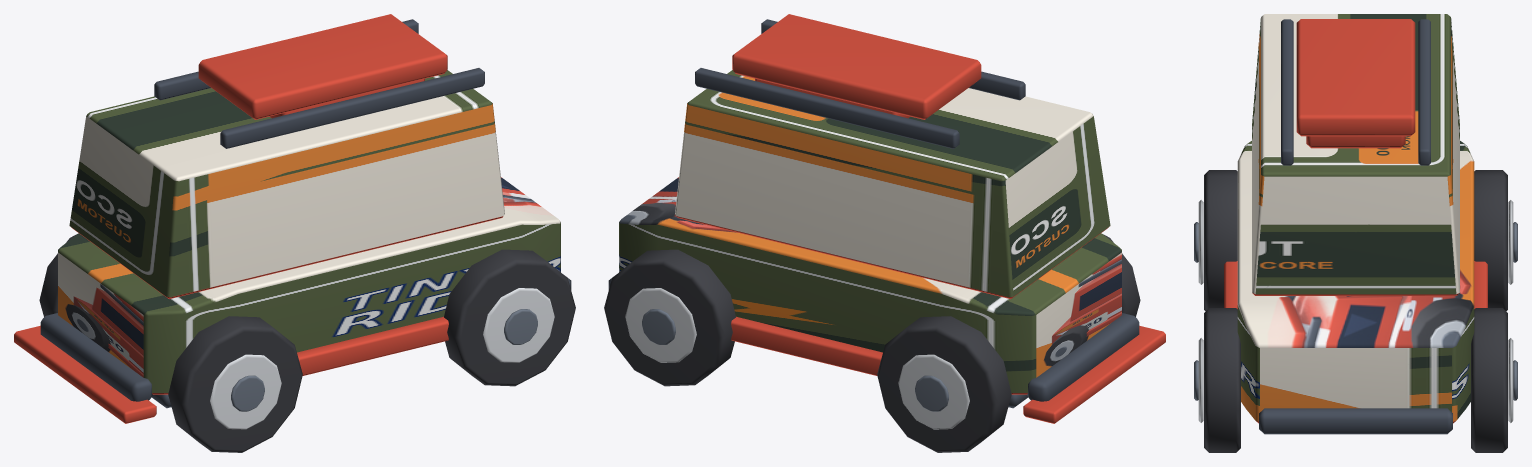
The picture shows the model from 3 angles, left to right: view 1: azimuth 30°, elevation 25°; view 2: azimuth 150°, elevation 25°; view 3: azimuth 270°, elevation 25°; orthographic projection. The views are drawn at different scales.
Parts seen in each view (by area): view 1: DP-05_cabin, DP-05_connected_shell, utility load, Tire, Tire.002, utility rail, custom side guard, custom chin, front bumper, Rim, Rim.002, utility rail.001 (+3 smaller); view 2: DP-05_cabin, DP-05_connected_shell, utility load, Tire.001, Tire.003, utility rail.001, custom side guard.001, custom chin, front bumper, Rim.001, Rim.003, utility rail (+3 smaller); view 3: DP-05_cabin, DP-05_connected_shell, utility load, Tire.002, Tire.003, rear bumper, Tire, Tire.001, utility rail, utility rail.001, custom equipment, custom side guard (+5 smaller).
Part boxes in pixels (bbox=[...]): DP-05_cabin: bbox=[69, 70, 504, 298]; DP-05_connected_shell: bbox=[58, 177, 560, 394]; utility load: bbox=[198, 14, 447, 119]; Tire: bbox=[168, 316, 302, 452]; Tire.002: bbox=[444, 249, 575, 386]; utility rail: bbox=[220, 68, 484, 148]; custom side guard: bbox=[297, 316, 448, 375]; custom chin: bbox=[14, 325, 156, 423]; front bumper: bbox=[40, 313, 152, 401]; Rim: bbox=[210, 354, 281, 429]; Rim.002: bbox=[483, 288, 554, 362]; utility rail.001: bbox=[154, 19, 418, 100]; DP-05_cabin: bbox=[675, 70, 1110, 298]; DP-05_connected_shell: bbox=[619, 177, 1121, 394]; utility load: bbox=[732, 14, 981, 119]; Tire.001: bbox=[877, 316, 1011, 452]; Tire.003: bbox=[604, 249, 735, 386]; utility rail.001: bbox=[695, 68, 959, 148]; custom side guard.001: bbox=[731, 316, 882, 375]; custom chin: bbox=[1023, 325, 1165, 423]; front bumper: bbox=[1027, 313, 1139, 401]; Rim.001: bbox=[898, 354, 969, 429]; Rim.003: bbox=[625, 288, 696, 362]; utility rail: bbox=[761, 19, 1025, 100]; DP-05_cabin: bbox=[1252, 14, 1459, 295]; DP-05_connected_shell: bbox=[1237, 141, 1474, 423]; utility load: bbox=[1296, 19, 1415, 136]; Tire.002: bbox=[1204, 308, 1240, 452]; Tire.003: bbox=[1471, 308, 1507, 452]; rear bumper: bbox=[1259, 408, 1452, 434]; Tire: bbox=[1204, 170, 1237, 311]; Tire.001: bbox=[1474, 170, 1507, 311]; utility rail: bbox=[1281, 19, 1293, 165]; utility rail.001: bbox=[1418, 19, 1430, 165]; custom equipment: bbox=[1306, 136, 1405, 148]; custom side guard: bbox=[1224, 261, 1237, 308].
Size of the model in its own units: 384 by 247 by 227.
